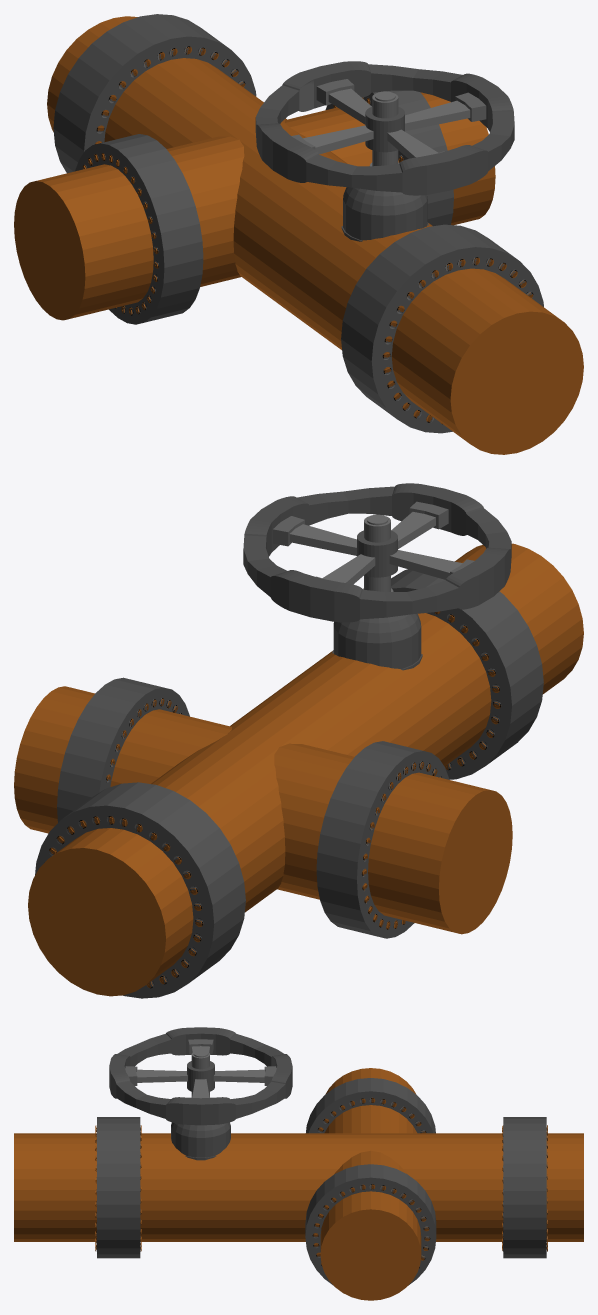
File: ObjectsForThereWFR(PipeValve).fbx
3 renders of one model, top to bottom at view 1: azimuth 30°, elevation 25°; view 2: azimuth 150°, elevation 25°; view 3: azimuth 270°, elevation 25°, orthographic. The views are drawn at different scales.
Visible parts, largest first — view 1: FinalCopyValve; view 2: FinalCopyValve; view 3: FinalCopyValve.
Boxes of the visible parts, x1=… form: FinalCopyValve: x1=14, y1=14, x2=583, y2=454; FinalCopyValve: x1=14, y1=483, x2=583, y2=998; FinalCopyValve: x1=14, y1=1027, x2=583, y2=1300.
Size of the model in its own units: 615 by 403 by 1047.
